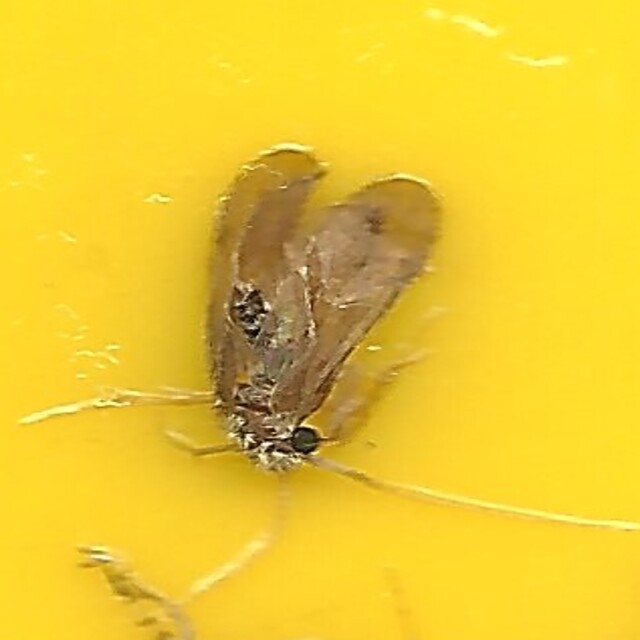Trichoptera: (202, 152, 438, 488)
